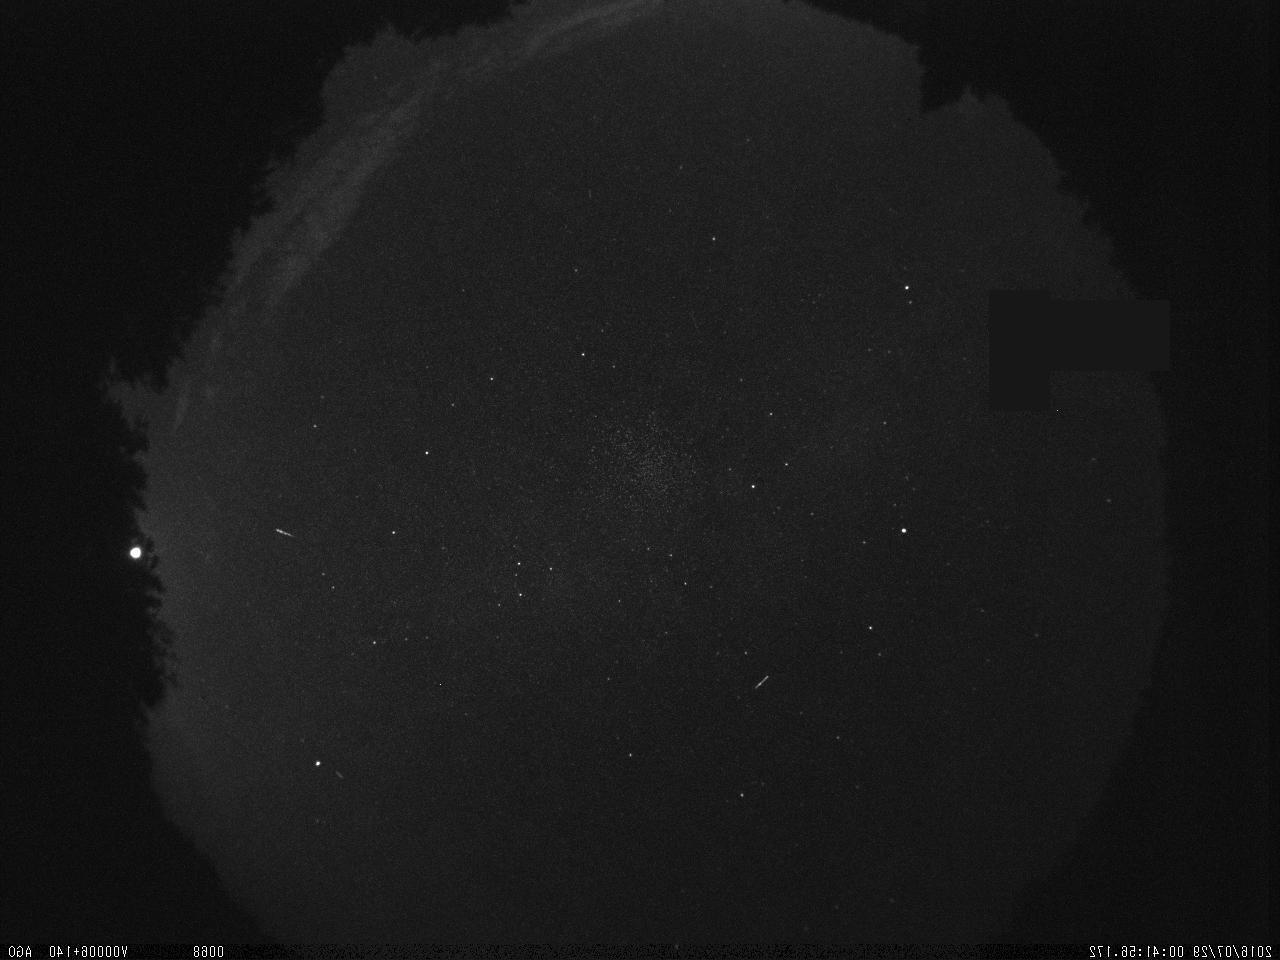meteor: (258, 520, 301, 546), (748, 660, 776, 699)
